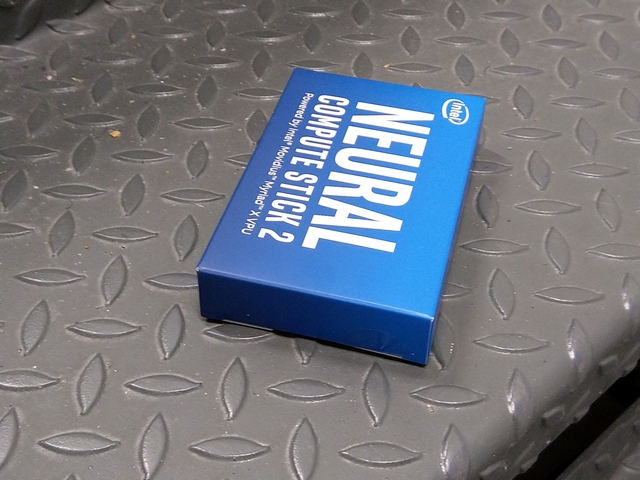box: (194, 67, 488, 369)
